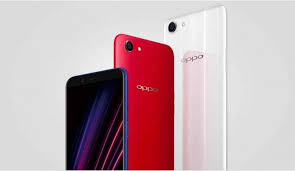oppo: (159, 6, 232, 170), (113, 31, 176, 171)
